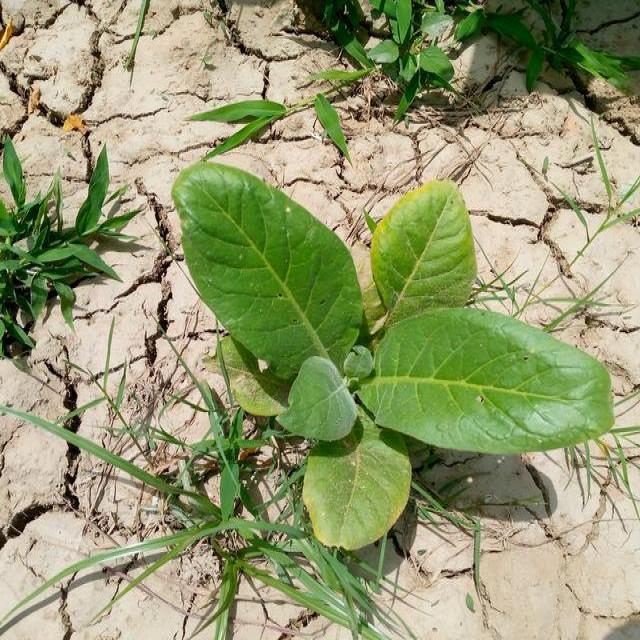crop: (174, 138, 610, 546)
